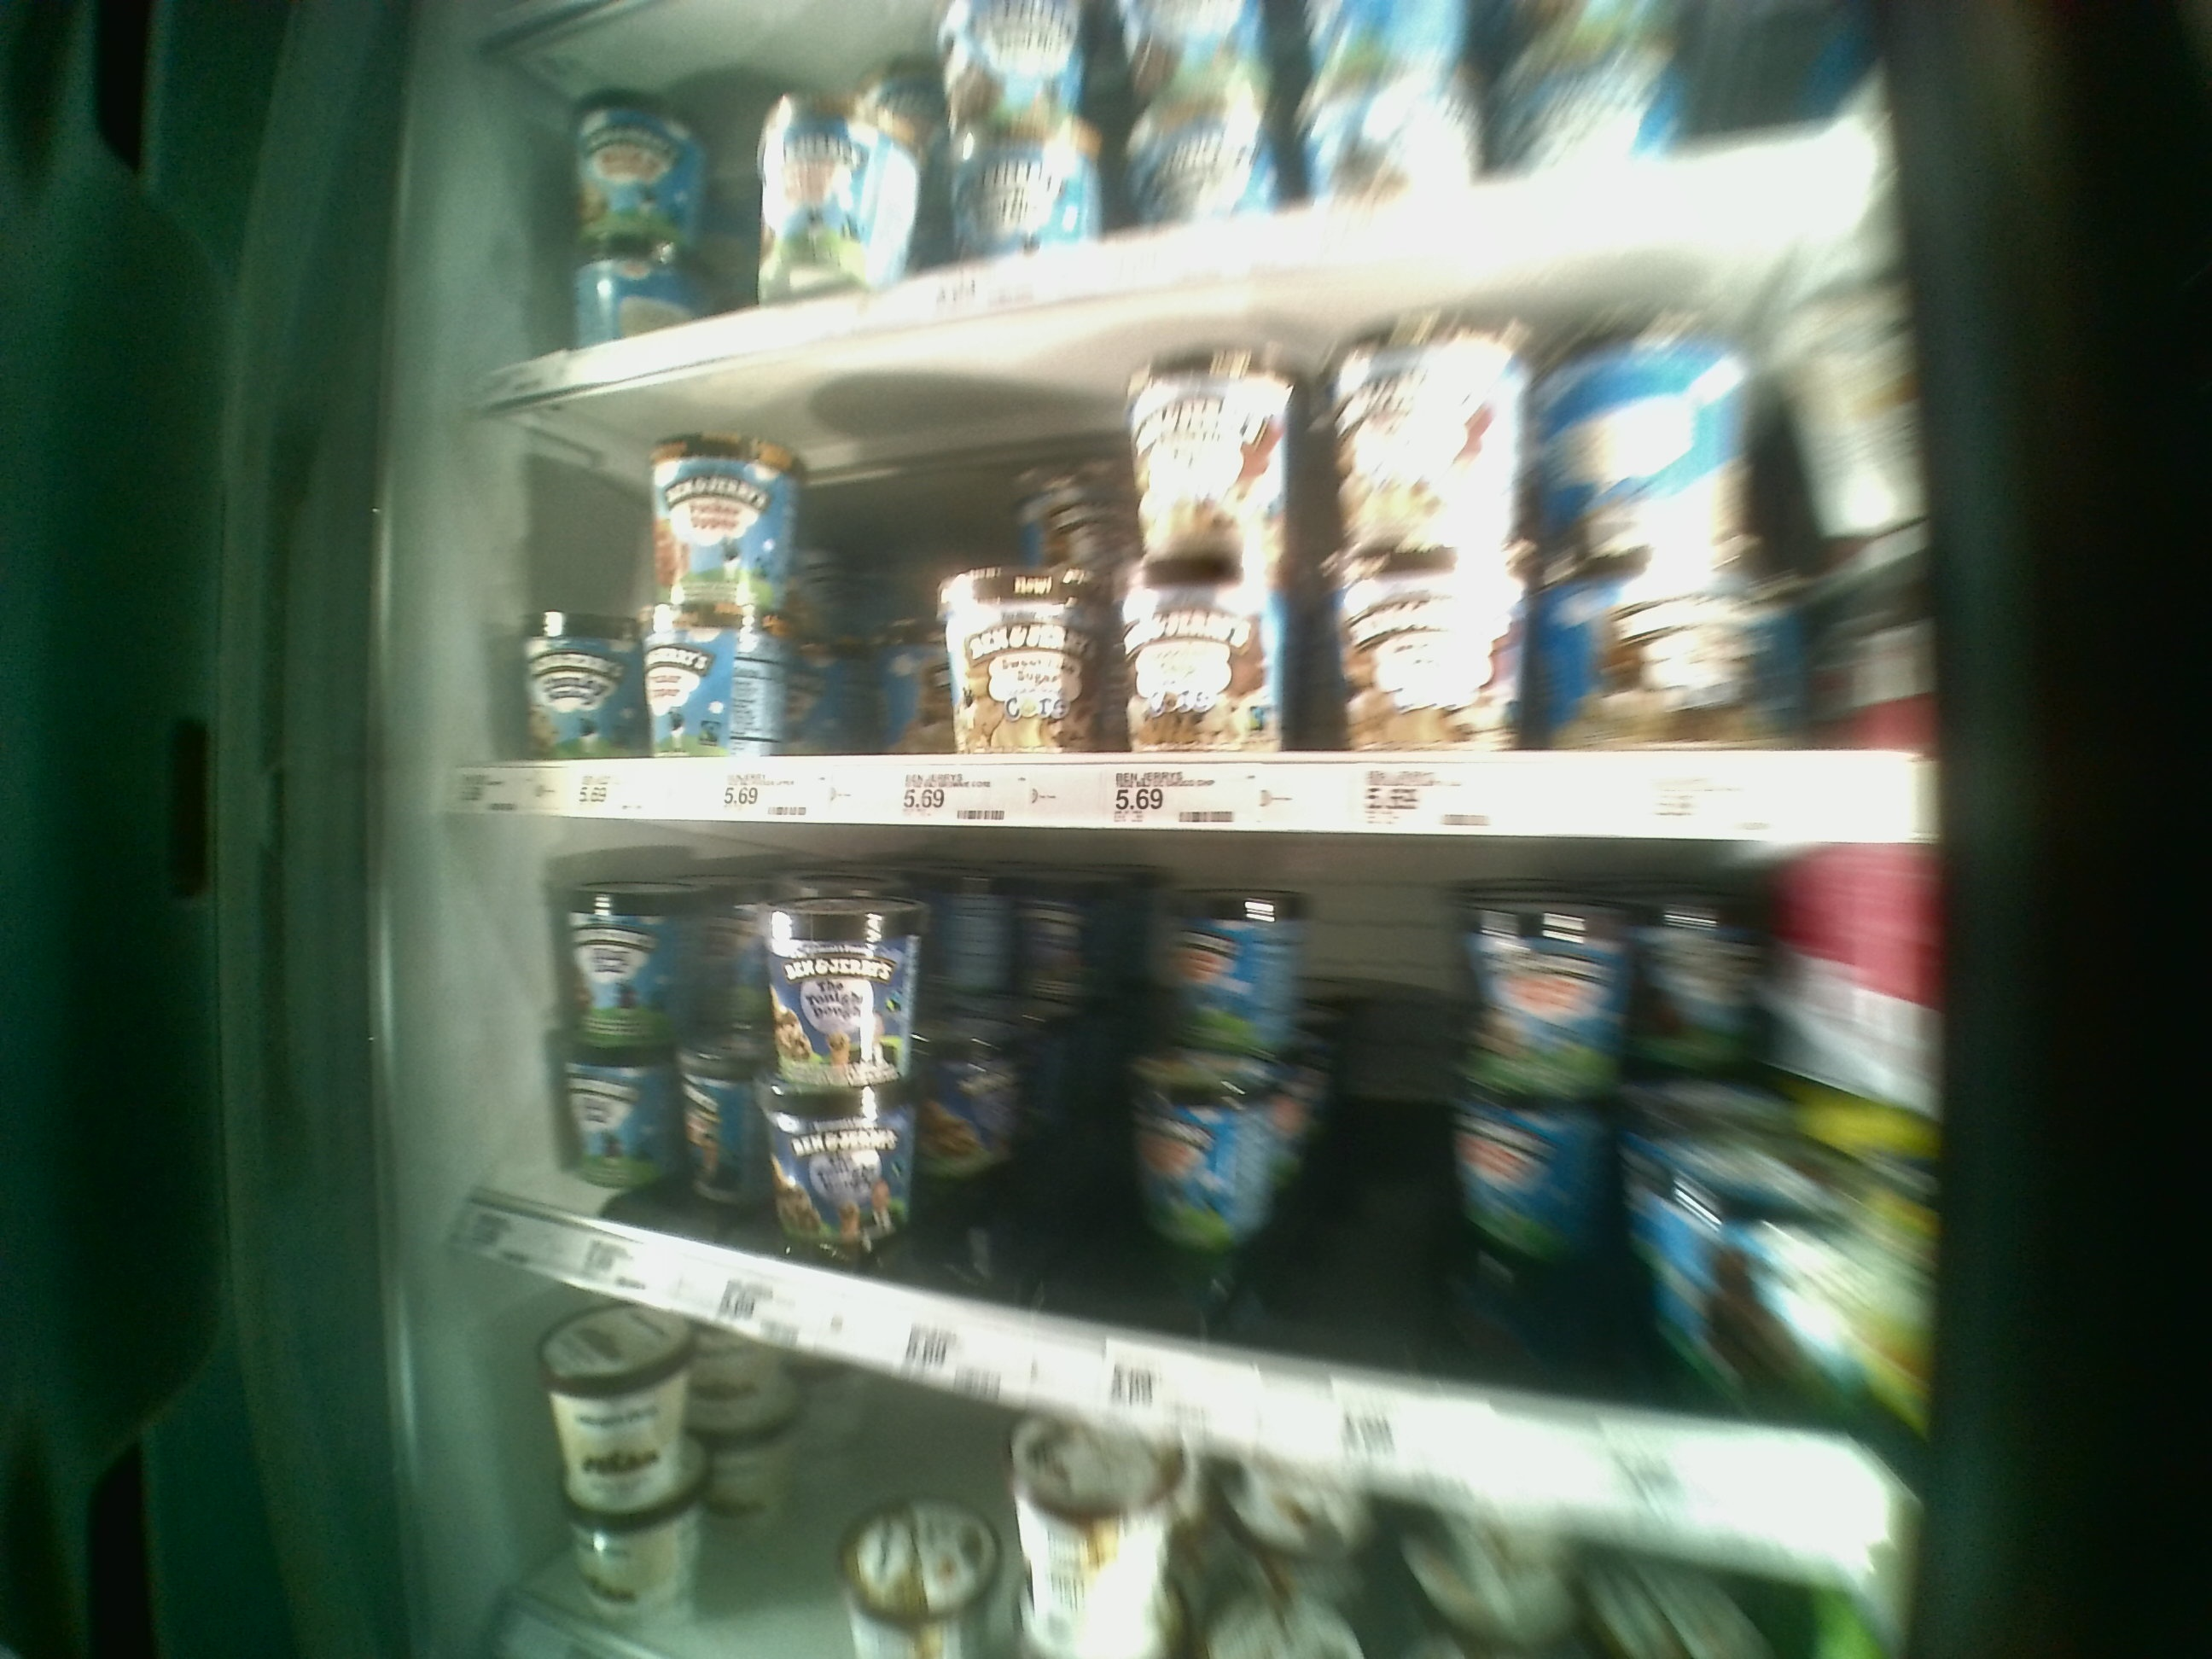shelf: (474, 260, 1932, 829)
